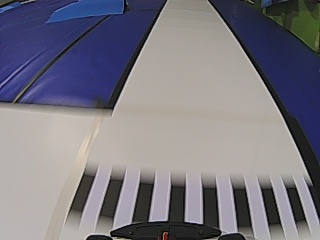CrossWalk: (67, 170, 309, 221)
